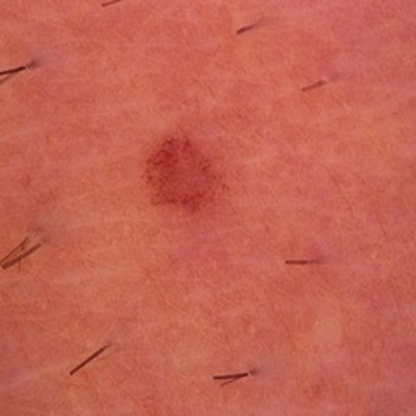benign: (142, 131, 224, 213)
